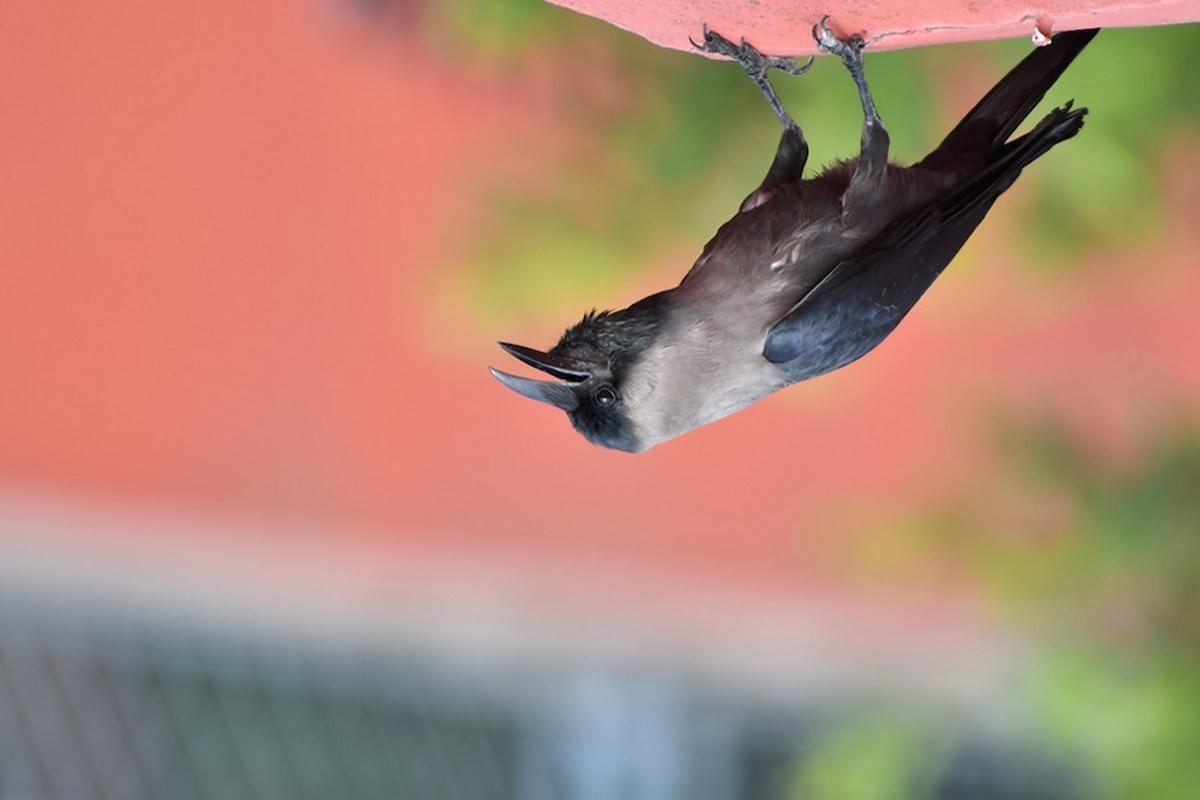crow: (485, 1, 1118, 456)
